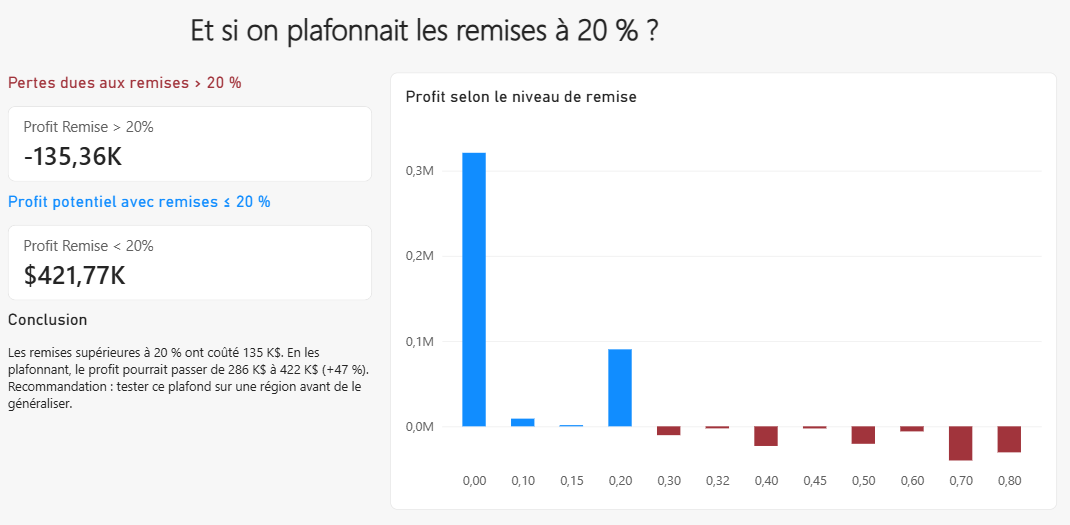

This screenshot's page, from the dashboard's own definition file:
{"tool":"powerbi","page":{"name":"Page 2","canvas":[1280,720],"ordinal":1},"visuals":[{"type":"cardVisual","title":"Pertes dues aux remises > 20 %","fields":{"Data":["Ventes.Profit Remise > 20%"]},"box":[10,80,400,120],"z":0},{"type":"cardVisual","title":"Profit potentiel avec remises ≤ 20 %","fields":{"Data":["Ventes.Profit Remise < 20%"]},"box":[10,210,400,120],"z":1000},{"type":"textbox","box":[210,10,860,50],"z":2000},{"type":"columnChart","title":"Profit selon le niveau de remise","fields":{"Category":["Ventes.Discount"],"Y":["Sum(Ventes.Profit)"]},"box":[430,80,732,480],"z":3000},{"type":"textbox","title":"Conclusion","box":[10,340,400,150],"z":4000}]}

Visuals, with their boxes on the page's 1280x720 design canvas (x1, y1, x2, y2). These are canvas units, not pixel positions in the 1070x525 screenshot, which may show the page scaled, cropped or inside an application window:
"Pertes dues aux remises > 20 %" cardVisual: Rect(10, 80, 410, 200)
"Profit potentiel avec remises ≤ 20 %" cardVisual: Rect(10, 210, 410, 330)
textbox: Rect(210, 10, 1070, 60)
"Profit selon le niveau de remise" columnChart: Rect(430, 80, 1162, 560)
"Conclusion" textbox: Rect(10, 340, 410, 490)
